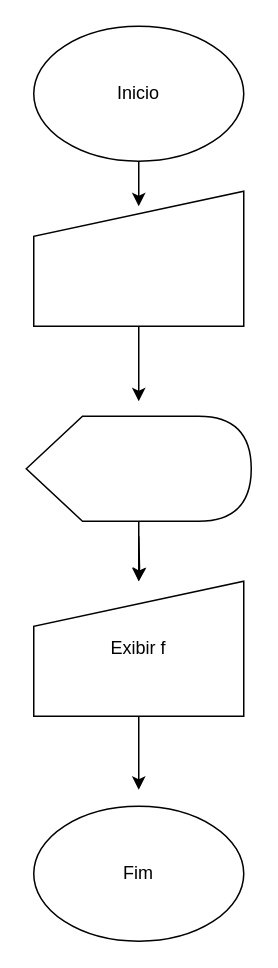
Some shapes in this 278 by 968 pixel diagram are drawn without their labels. The shapes that lost their labels are listed below. From the top down, each one's box as (x1, y1, x2, y2) in pixels, then its label:
(32, 190, 244, 326): Leia c
(25, 415, 251, 521): f <- ((9 * c) / 5) + 32
